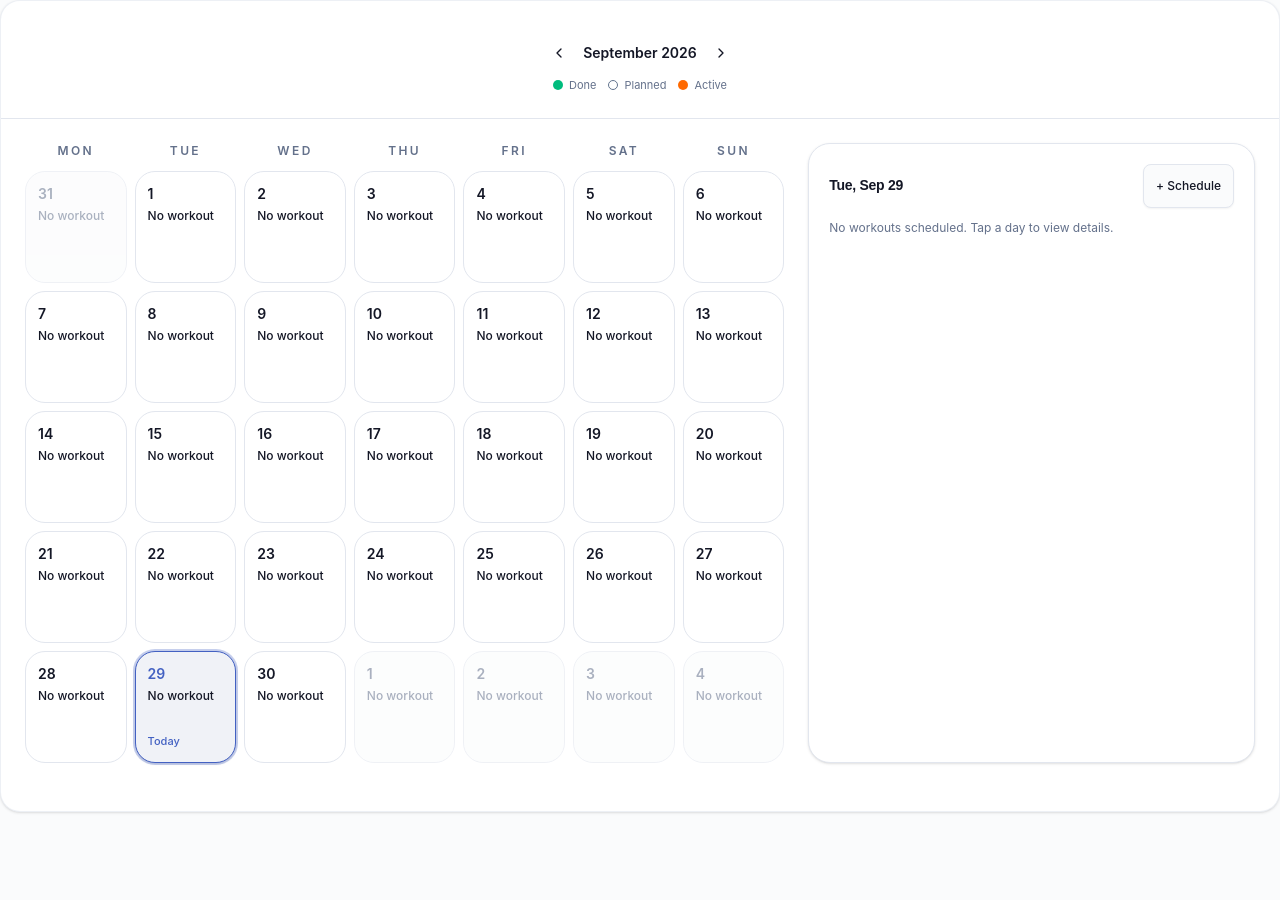
Scenario: WorkoutCalendar › updates selected-day details when a calendar day is tapped
Expected: the text "No workouts scheduled. Tap a day to view details." is shown, [829,220,1114,234]
Click the button "11 No workout".
click(514, 346)  # box [464,290,565,402]
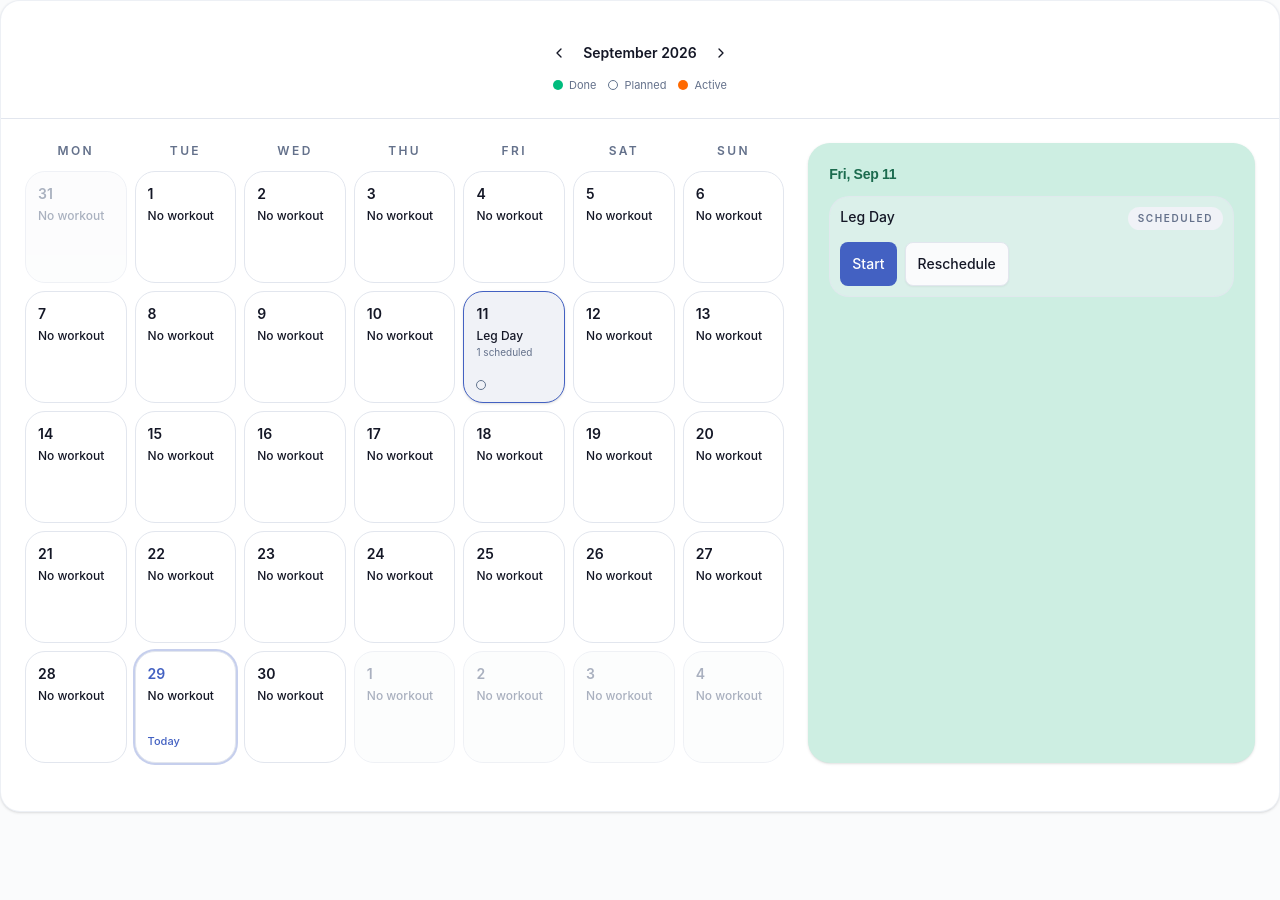
Expected: the element with id "workout-day-details" is shown, [808,142,1255,762]
Now the link "Leg Day" is shown, box [840,208,895,224]
